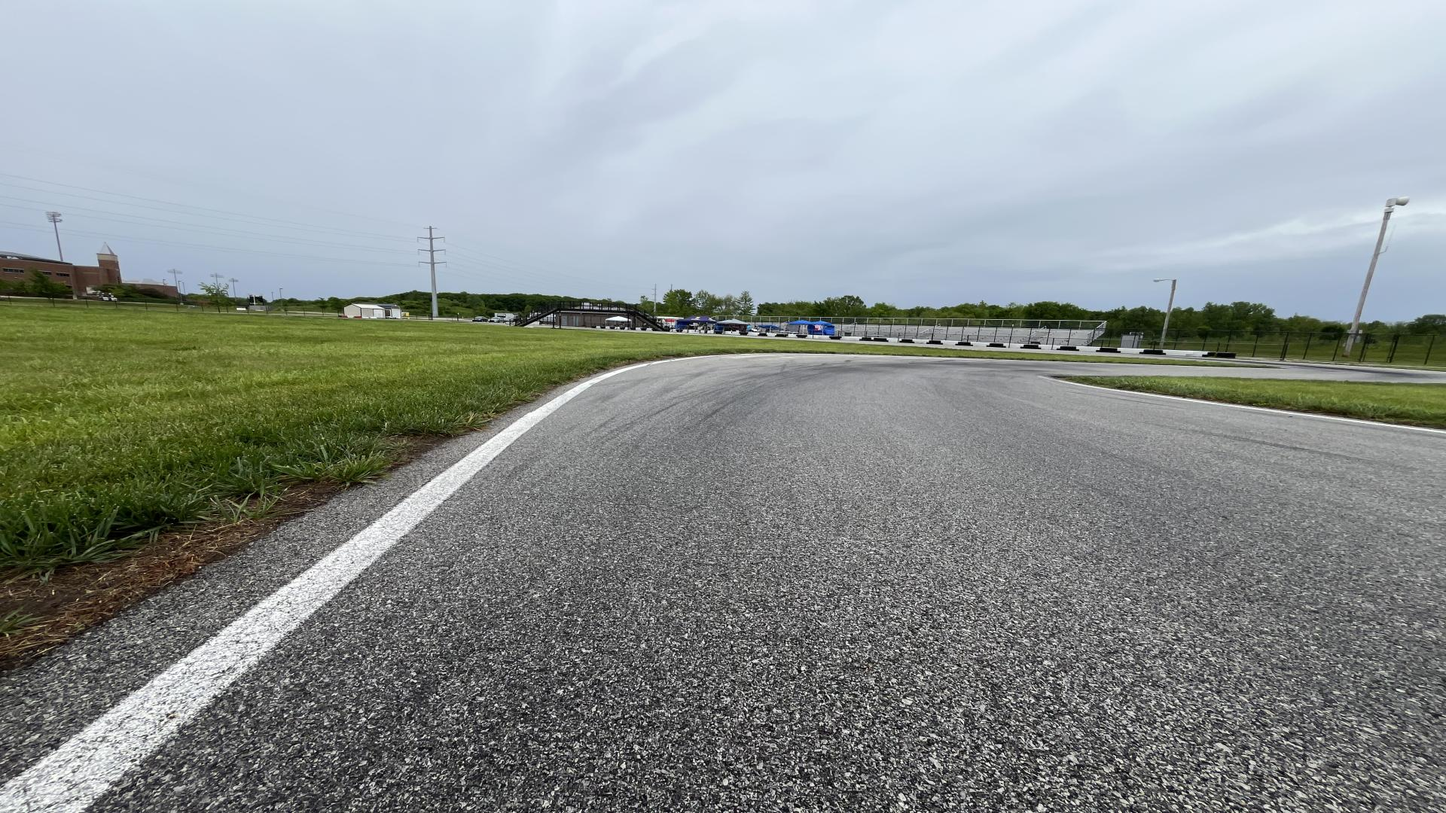white-line: (5, 363, 651, 812), (1055, 380, 1445, 434), (671, 354, 886, 361), (1096, 363, 1283, 369), (651, 360, 670, 365)
